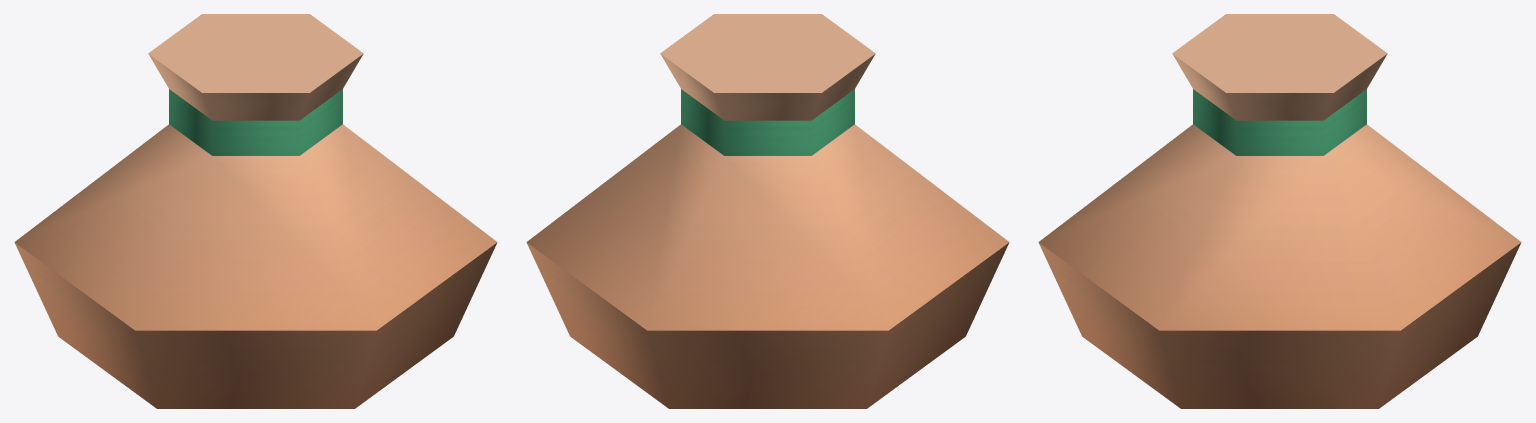
File: dim-sum.glb
The picture shows the model from 3 angles, left to right: view 1: azimuth 30°, elevation 25°; view 2: azimuth 150°, elevation 25°; view 3: azimuth 270°, elevation 25°; orthographic projection.
Parts seen in each view (by area): view 1: dim-sum; view 2: dim-sum; view 3: dim-sum.
Boxes of the visible parts, <box> form: dim-sum: <box>14,14,497,408</box>; dim-sum: <box>526,14,1009,408</box>; dim-sum: <box>1038,14,1521,408</box>.
Size of the model in its own units: 0.1607 by 0.12 by 0.1856.
1 material, 1 textured.
